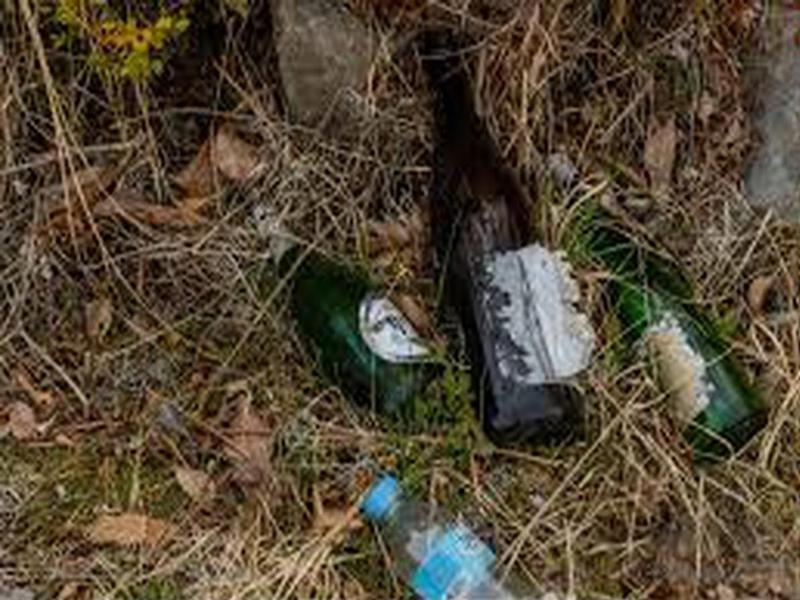bottle: (407, 16, 599, 460), (540, 147, 775, 464), (239, 191, 454, 418), (343, 472, 557, 600)
